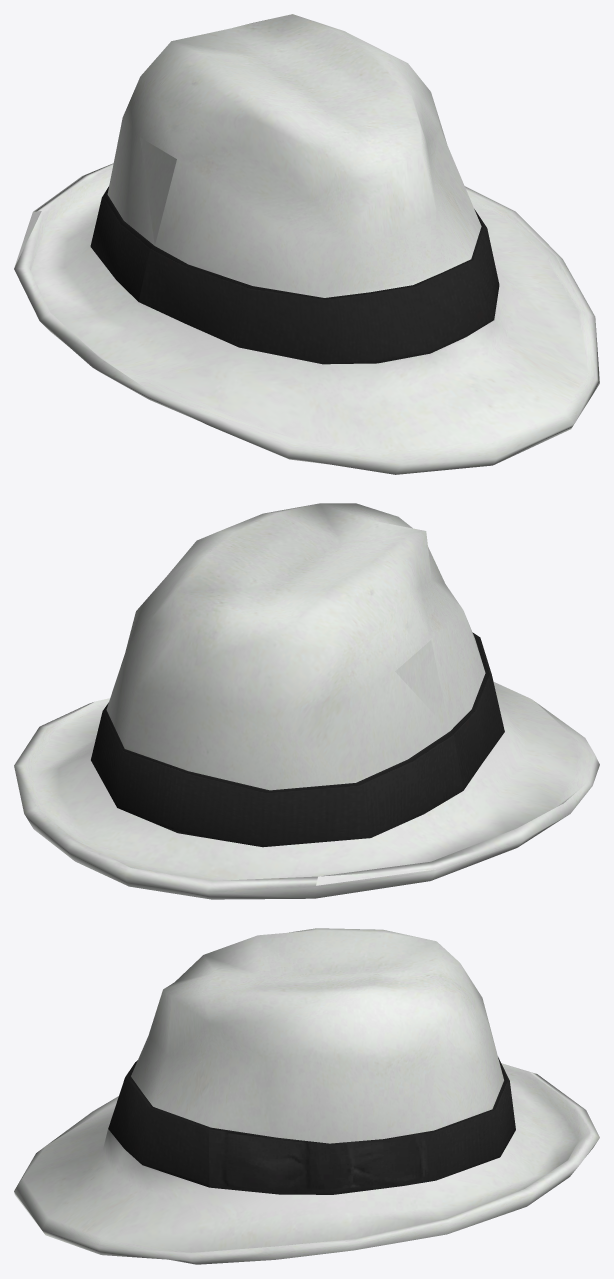
Rendered from Hat 2.FBX.
The picture shows the model from 3 angles, top to bottom: view 1: azimuth 30°, elevation 25°; view 2: azimuth 150°, elevation 25°; view 3: azimuth 270°, elevation 25°; orthographic projection. The views are drawn at different scales.
Parts seen in each view (by area): view 1: hat 2; view 2: hat 2; view 3: hat 2.
Boxes of the visible parts, x1=… form: hat 2: x1=14, y1=14, x2=599, y2=474; hat 2: x1=14, y1=503, x2=599, y2=899; hat 2: x1=14, y1=928, x2=599, y2=1264.
Size of the model in its own units: 24.66 by 13.51 by 30.88.
Materials: 1 (1 with a texture image).
